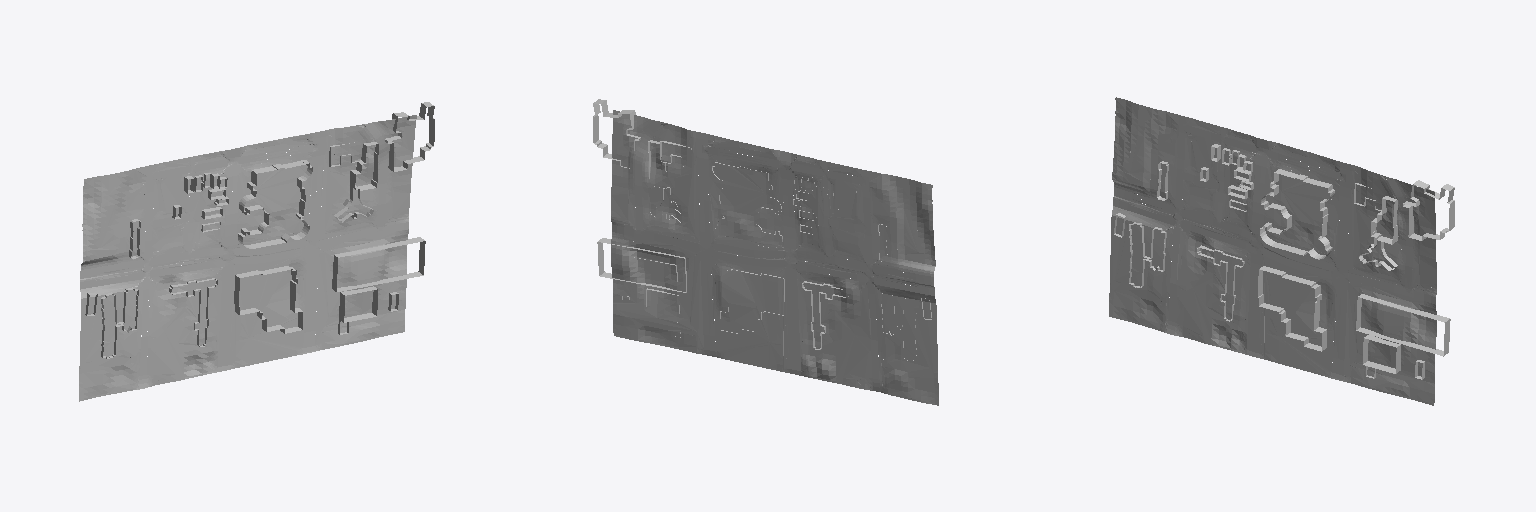
Rendered from park_collision.obj.
The picture shows the model from 3 angles: view 1: azimuth 30°, elevation 25°; view 2: azimuth 150°, elevation 25°; view 3: azimuth 330°, elevation 25°; orthographic projection.
Visible parts, largest first — view 1: shape_node.030_meshId30_name, shape_node.029_meshId29_name, shape_node.024_meshId24_name, shape_node.012_meshId12_name; view 2: shape_node.030_meshId30_name, shape_node.029_meshId29_name, shape_node.012_meshId12_name, shape_node.024_meshId24_name; view 3: shape_node.030_meshId30_name, shape_node.029_meshId29_name, shape_node.024_meshId24_name, shape_node.012_meshId12_name.
Part boxes in pixels (x1,y1,x2,y2): shape_node.030_meshId30_name: (79, 115, 416, 401); shape_node.029_meshId29_name: (80, 123, 408, 388); shape_node.024_meshId24_name: (85, 102, 434, 358); shape_node.012_meshId12_name: (80, 122, 408, 389); shape_node.030_meshId30_name: (611, 110, 938, 405); shape_node.029_meshId29_name: (612, 121, 934, 391); shape_node.012_meshId12_name: (612, 120, 934, 391); shape_node.024_meshId24_name: (593, 99, 931, 360); shape_node.030_meshId30_name: (1109, 97, 1436, 405); shape_node.029_meshId29_name: (1113, 116, 1435, 380); shape_node.024_meshId24_name: (1114, 144, 1454, 379); shape_node.012_meshId12_name: (1113, 115, 1435, 380).
Size of the model in its own units: 543 by 342 by 25.52.